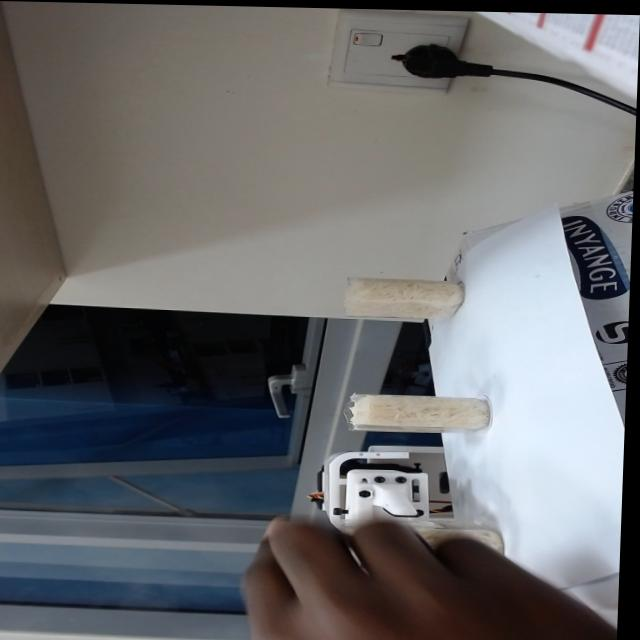raw_rice: (352, 391, 493, 429), (345, 277, 470, 317)
